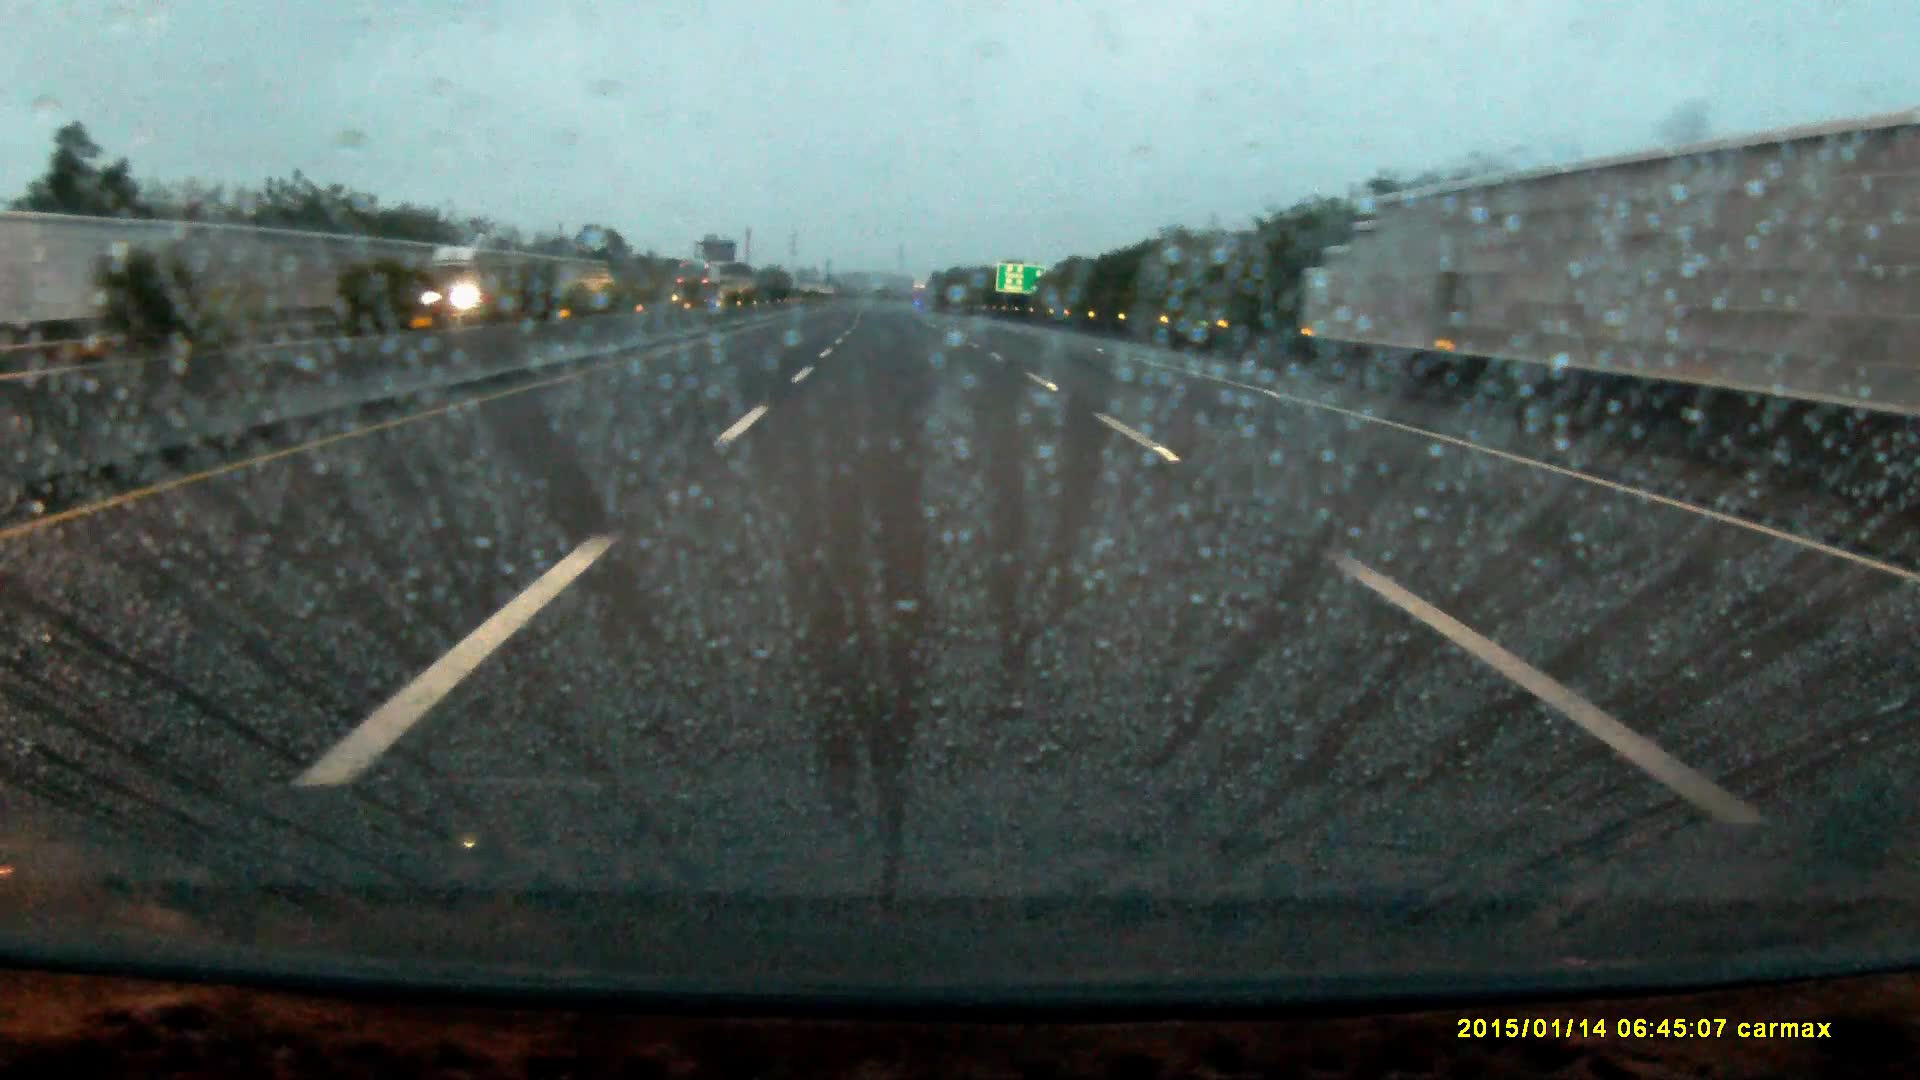vehicle: (422, 245, 525, 332), (678, 272, 727, 313)
